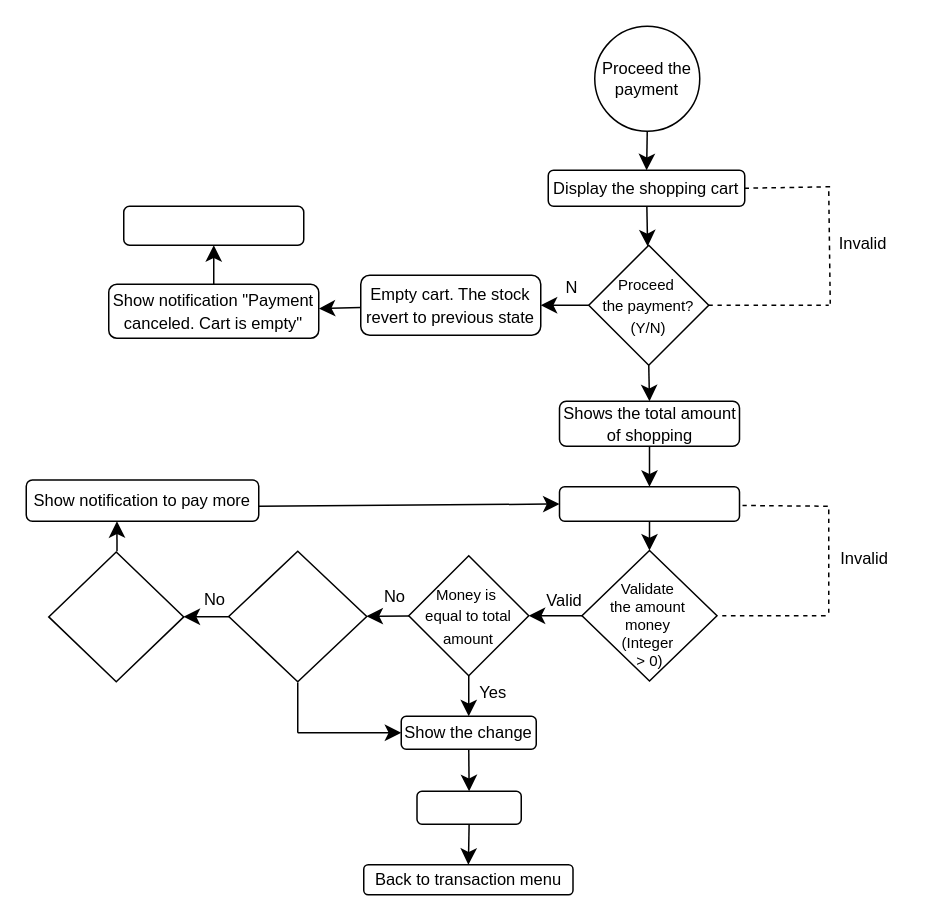
The diagram is 936 pixels wide and 921 high, and some of its shapes have lost their labels. Each missing label, with the centre of its shape:
"Money is less than the total amount" belongs at (x=115, y=616).
"Money is more than the total amount" belongs at (x=297, y=616).
"Print receipt" belongs at (x=468, y=807).
"Return to transaction menu" belongs at (x=213, y=225).
"User input the money" belongs at (x=649, y=503).
